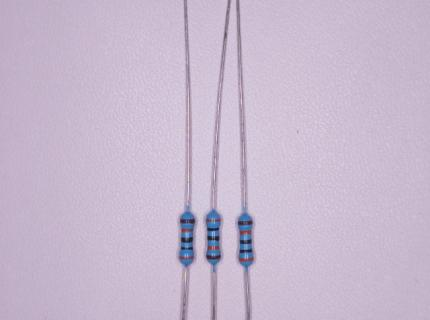Black band: (181, 236, 193, 243), (207, 235, 220, 241), (240, 239, 252, 245), (240, 249, 252, 254), (180, 247, 193, 251), (207, 227, 219, 231)
Brown band: (180, 219, 195, 224), (238, 221, 253, 226), (206, 255, 221, 260)
Orange band: (239, 230, 252, 235), (181, 228, 194, 233), (239, 258, 254, 262), (208, 245, 220, 250), (206, 218, 221, 222), (180, 256, 194, 260)
